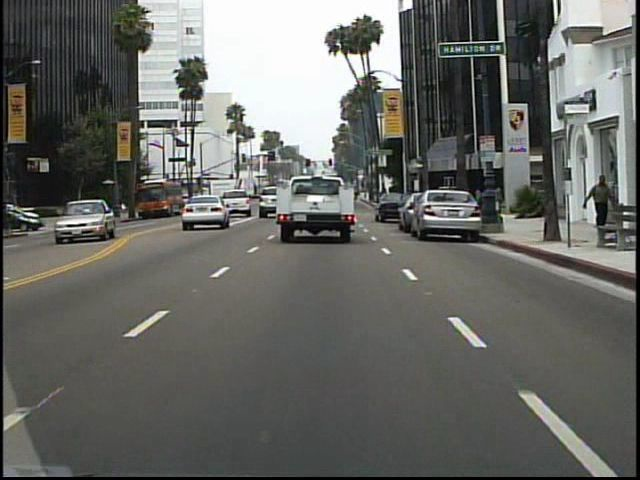person: (581, 174, 615, 238), (98, 195, 113, 223)
